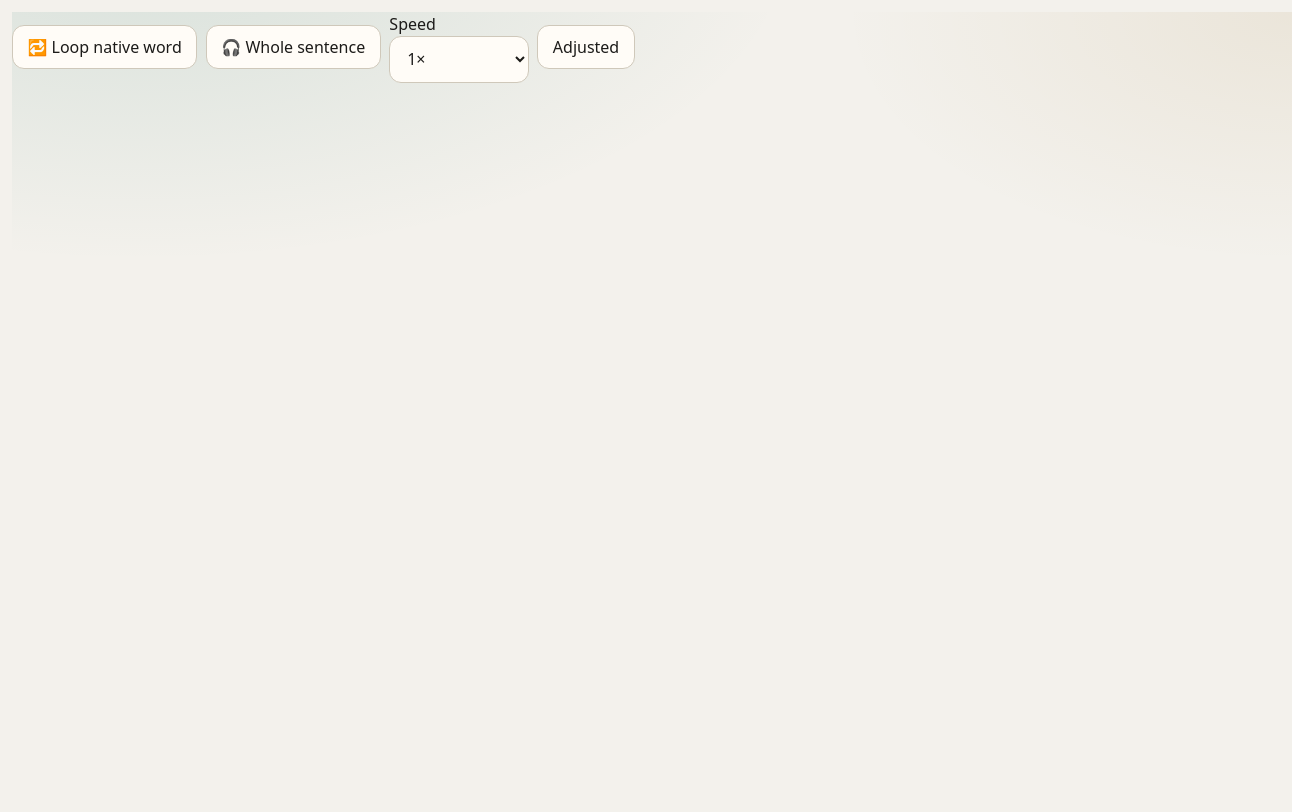
Test case: SegmentLoopPlayer word-audio range › uses the manual override even when alignment cannot isolate the word
Expected: the button with aria-label "loop the native word" is shown, [12, 25, 197, 69]
Click the button "Adjusted".
click(586, 47)  # box [537, 25, 635, 69]
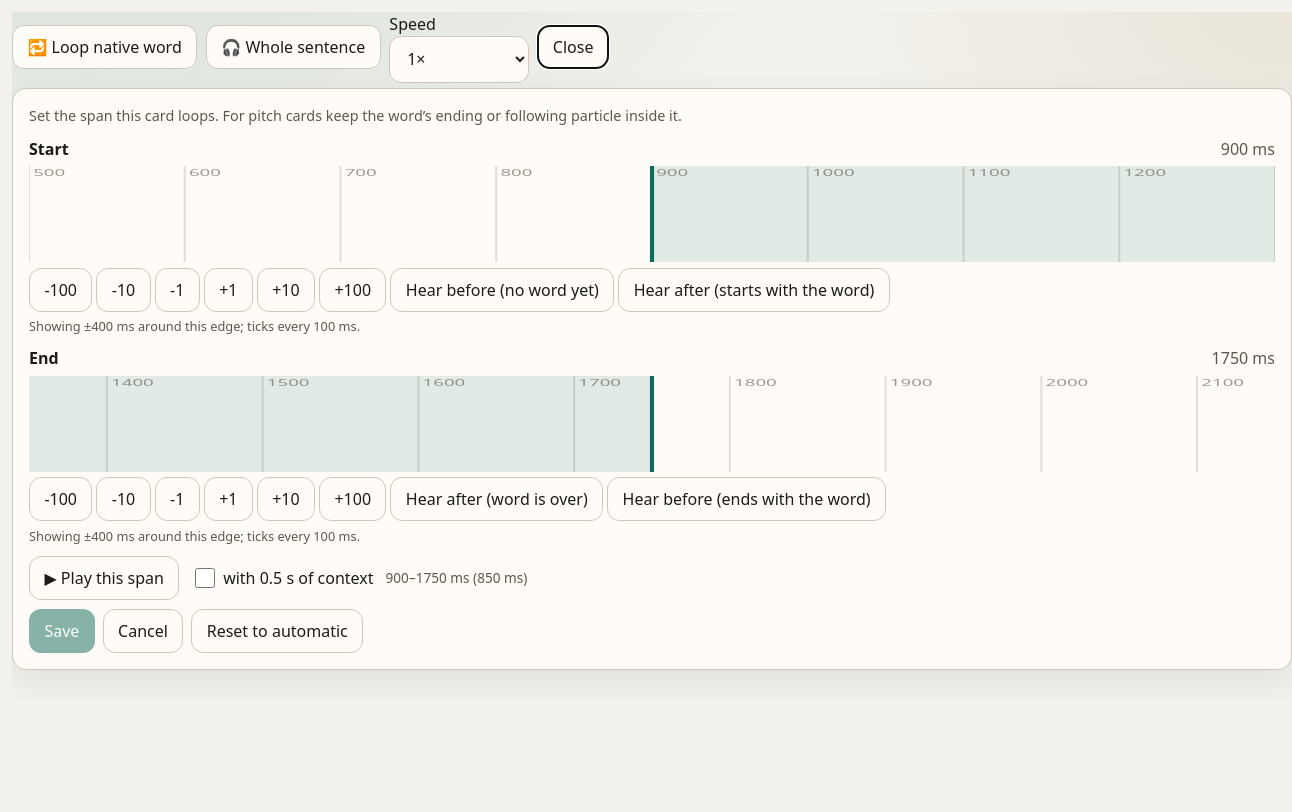
Expected: the element named "word audio range editor" is shown
